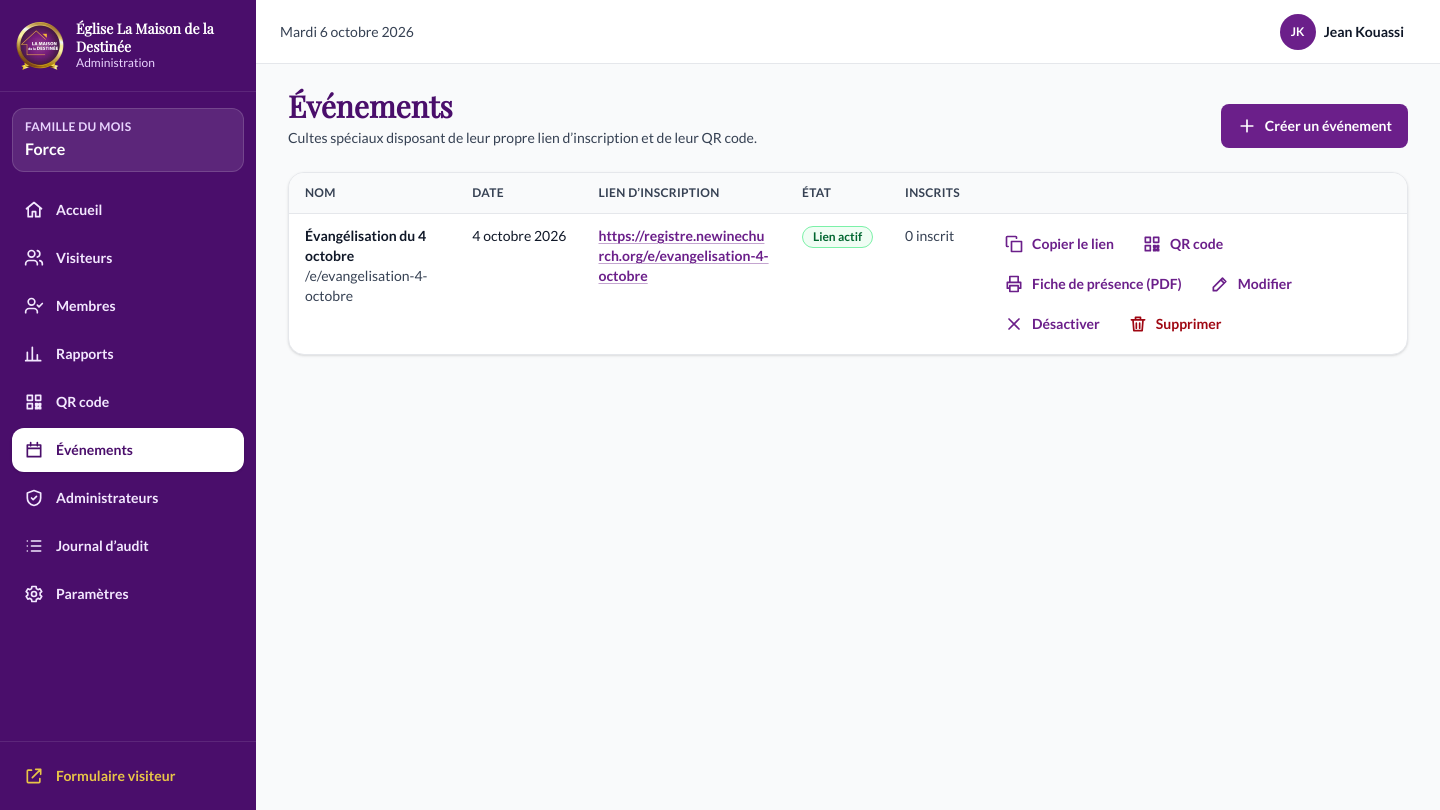
événements — activation et suppression › supprime un événement sans visite après confirmation
Click the button "Supprimer" at (1175, 324), box [1116,306,1234,342]
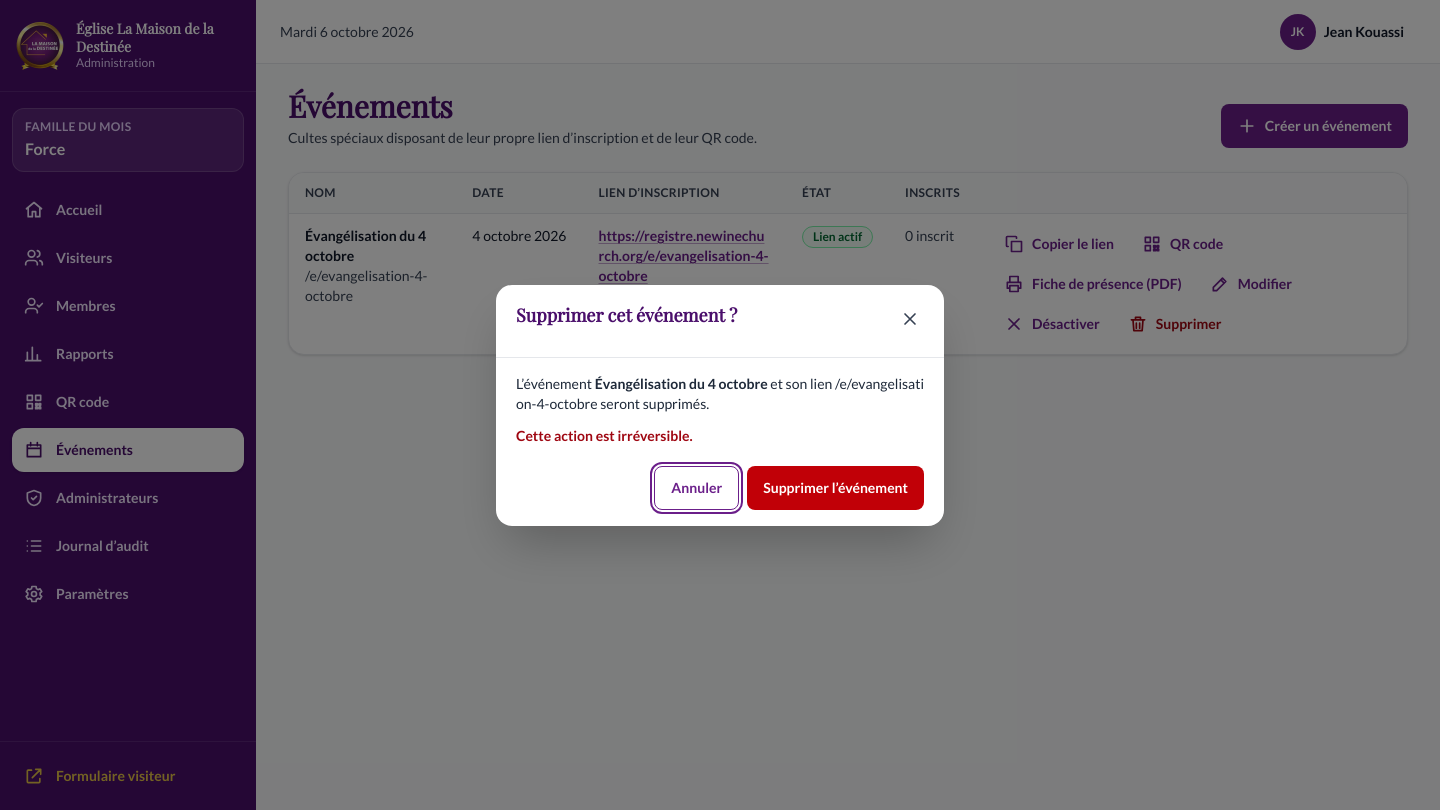
Result: the dialog shows "Cette action est irréversible" at [516,426,693,444]
Click the button "Supprimer l’événement" at (836, 488), box [747,466,924,510]
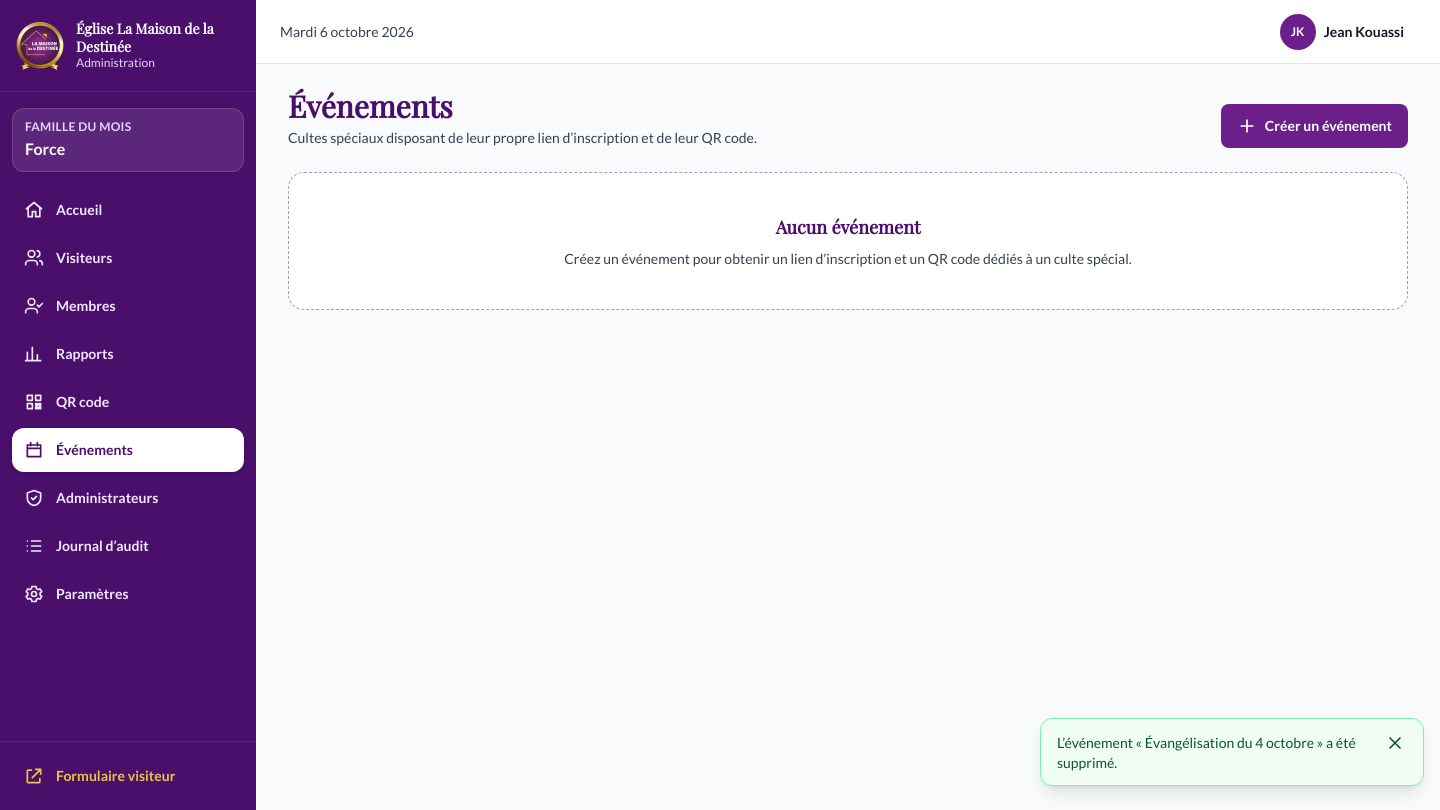
Result: the text "Aucun événement" is shown at [776,215,920,239]
